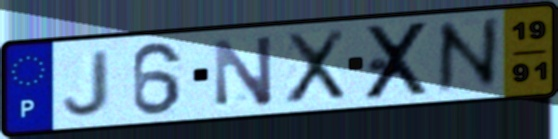6: (130, 39, 186, 118)
J: (60, 47, 114, 119)
N: (433, 14, 503, 98), (210, 32, 276, 109)
X: (361, 18, 434, 104), (282, 26, 348, 108)
